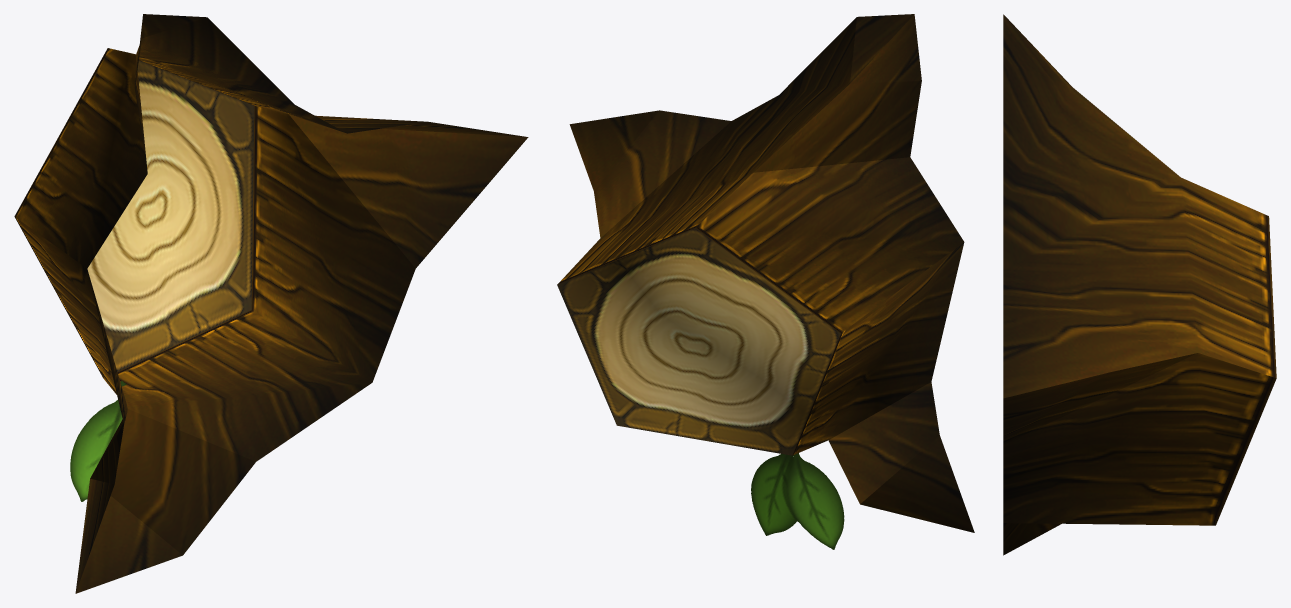
The model's file is Tree Log 02.FBX.
The picture shows the model from 3 angles, left to right: view 1: azimuth 30°, elevation 25°; view 2: azimuth 150°, elevation 25°; view 3: azimuth 270°, elevation 25°; orthographic projection. The views are drawn at different scales.
Parts seen in each view (by area): view 1: env_treelog02; view 2: env_treelog02; view 3: env_treelog02.
Boxes of the visible parts, x1,y1,x2,y2 form: env_treelog02: [14, 14, 528, 593]; env_treelog02: [557, 14, 974, 549]; env_treelog02: [1003, 14, 1276, 555].
Bounding box in the file's own units: 93.2 × 117 × 51.36.
